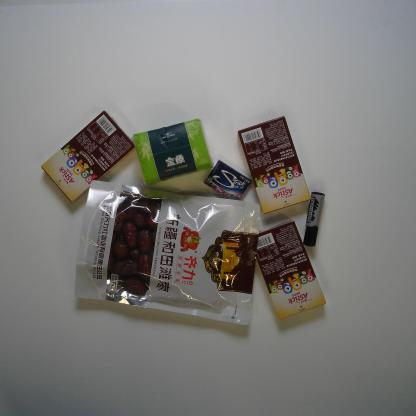Dessert: (40, 108, 136, 204), (236, 115, 314, 217), (254, 220, 328, 323)
Dried Food: (72, 178, 260, 328)
Gum: (202, 158, 252, 202)
Stationery: (302, 190, 326, 248)
Tissue: (132, 118, 215, 185)
